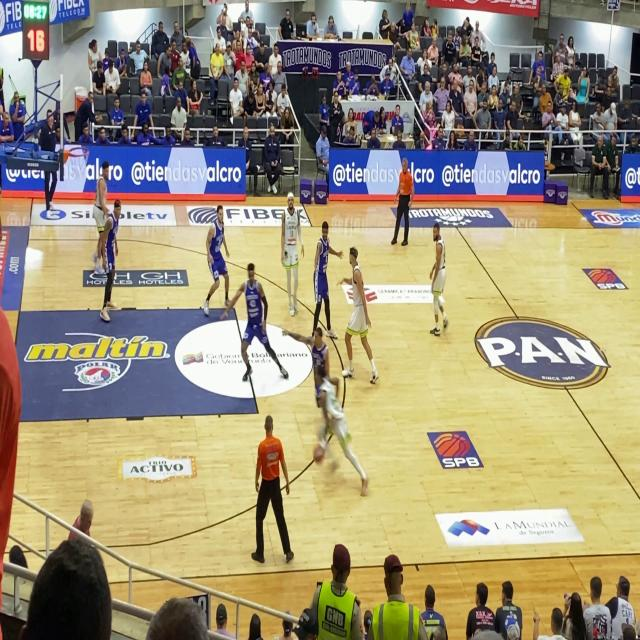Ball: (314, 440, 324, 463)
referee: (241, 415, 299, 579), (390, 147, 417, 260)
team1: (306, 360, 370, 500), (336, 242, 383, 389), (422, 213, 451, 342), (281, 190, 309, 323), (92, 157, 112, 249)
team2: (235, 254, 281, 391), (196, 190, 236, 323), (97, 194, 125, 330), (308, 206, 336, 326), (298, 319, 329, 381)
ubasket: (66, 142, 90, 182)
